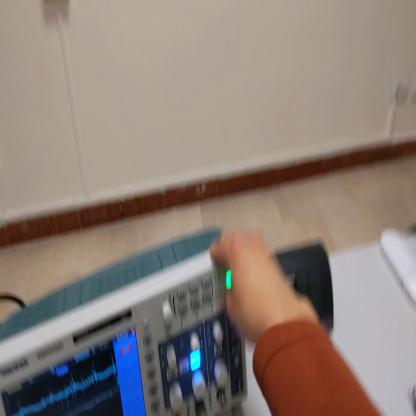hand: (210, 229, 298, 347)
oscilloscope: (2, 229, 248, 416)
